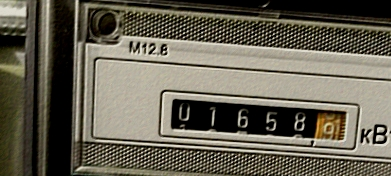0: (177, 101, 191, 123)
1: (207, 105, 218, 128)
5: (264, 110, 279, 133)
6: (235, 107, 250, 130)
8: (292, 110, 307, 133)
9: (319, 121, 335, 142)
screen: (152, 84, 367, 156)
